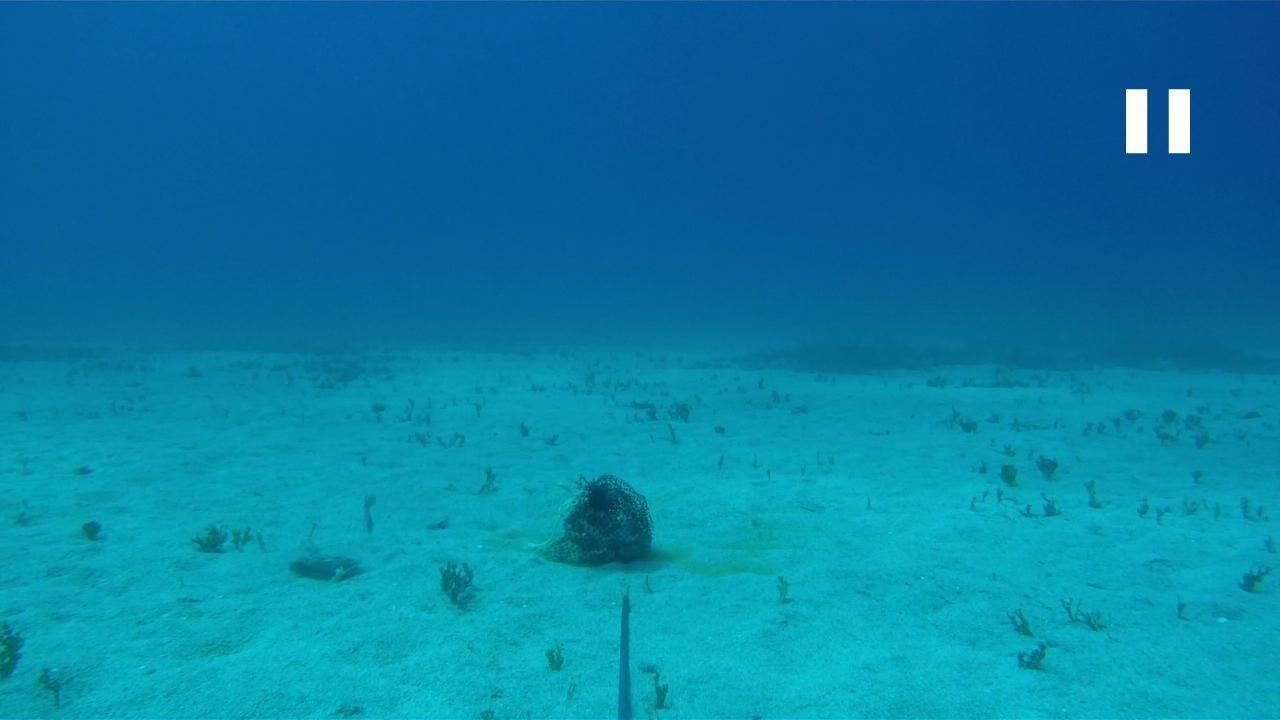bothus: (286, 544, 356, 580)
